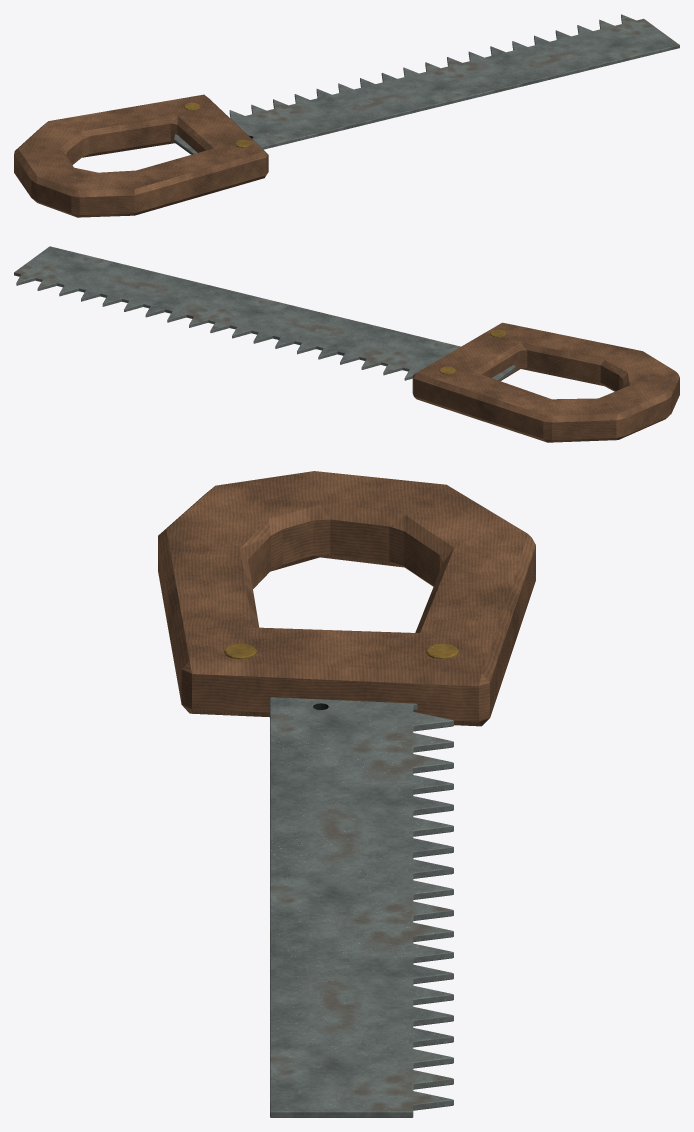
File: AssembledSaw.fbx
The picture shows the model from 3 angles, top to bottom: view 1: azimuth 30°, elevation 25°; view 2: azimuth 150°, elevation 25°; view 3: azimuth 270°, elevation 25°; orthographic projection. The views are drawn at different scales.
Parts seen in each view (by area): view 1: AssembledSaw_01_Solid walnut D grip, AssembledSaw_00_Steel blade with 21 cut teeth; view 2: AssembledSaw_01_Solid walnut D grip, AssembledSaw_00_Steel blade with 21 cut teeth; view 3: AssembledSaw_00_Steel blade with 21 cut teeth, AssembledSaw_01_Solid walnut D grip.
Boxes of the visible parts, box(x1,y1,x2,y2) form: AssembledSaw_01_Solid walnut D grip: box(14, 94, 268, 217); AssembledSaw_00_Steel blade with 21 cut teeth: box(174, 14, 679, 154); AssembledSaw_01_Solid walnut D grip: box(412, 322, 679, 442); AssembledSaw_00_Steel blade with 21 cut teeth: box(14, 246, 515, 380); AssembledSaw_00_Steel blade with 21 cut teeth: box(270, 697, 453, 1117); AssembledSaw_01_Solid walnut D grip: box(158, 471, 535, 726).
Bounding box in the file's own units: 59.9 × 2.5 × 15.54.
